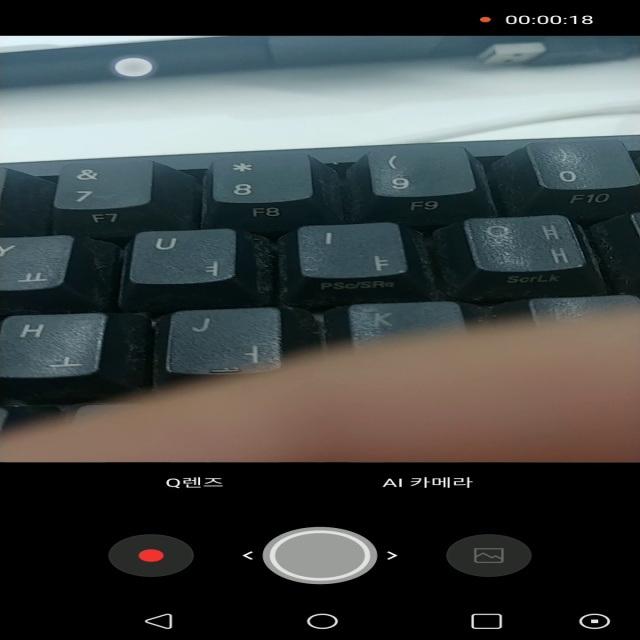Cursor: (112, 57, 156, 79)
